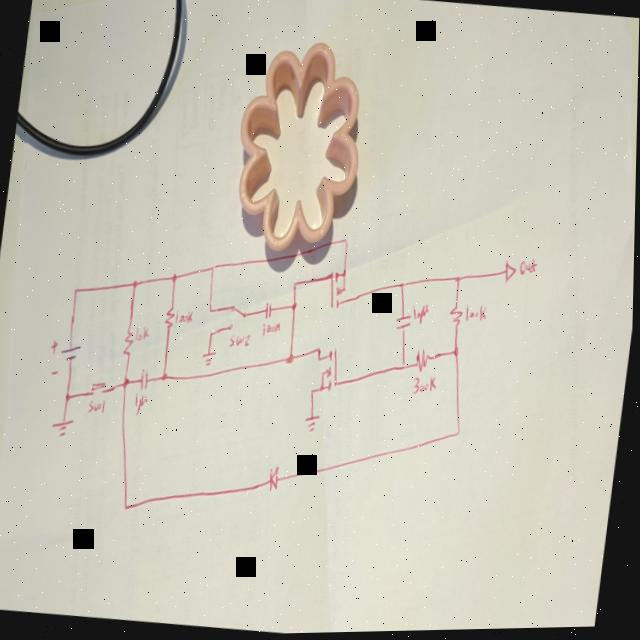capacitor: (395, 312, 414, 335), (139, 368, 152, 393), (263, 300, 275, 321)
diode: (267, 464, 283, 494)
ground: (52, 414, 76, 438), (304, 414, 322, 435), (201, 352, 217, 367)
junction: (287, 352, 296, 365), (171, 271, 179, 284), (453, 346, 461, 359), (65, 391, 73, 404), (292, 279, 300, 292), (132, 277, 139, 291), (123, 376, 130, 389), (125, 500, 132, 513), (162, 370, 169, 382), (291, 301, 298, 312), (455, 275, 462, 286), (72, 285, 79, 296), (401, 362, 408, 373), (343, 236, 350, 247), (399, 280, 406, 291), (210, 263, 217, 274), (456, 428, 463, 439), (208, 306, 215, 314), (209, 331, 215, 339), (317, 346, 323, 354), (311, 388, 316, 396), (318, 356, 323, 363)
resistor: (413, 346, 435, 377), (123, 324, 136, 359), (448, 305, 465, 330), (164, 303, 178, 331)
source: (47, 336, 84, 378)
switch: (226, 302, 251, 330), (90, 376, 112, 399)
terminal: (503, 260, 518, 285)
text: (412, 374, 439, 399), (464, 303, 489, 325), (412, 302, 432, 328), (518, 257, 539, 281), (133, 389, 151, 416), (228, 330, 252, 350), (262, 319, 282, 338), (88, 397, 107, 415), (135, 324, 152, 343), (175, 309, 195, 325)
transistor: (319, 347, 343, 397), (327, 270, 350, 312)
